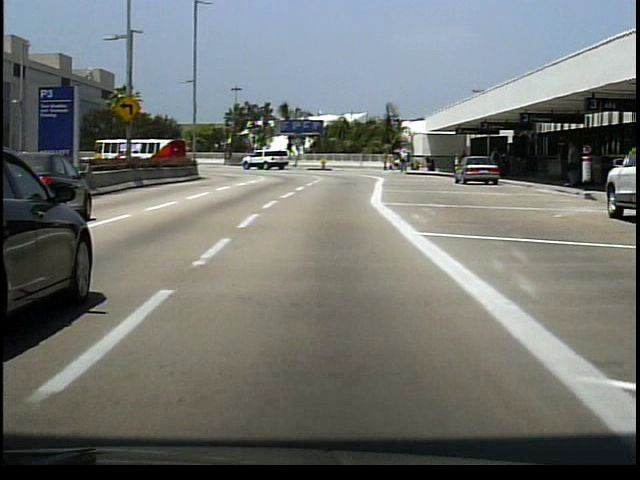person: (563, 136, 585, 191), (490, 149, 506, 183), (400, 146, 409, 175), (382, 148, 390, 172)
